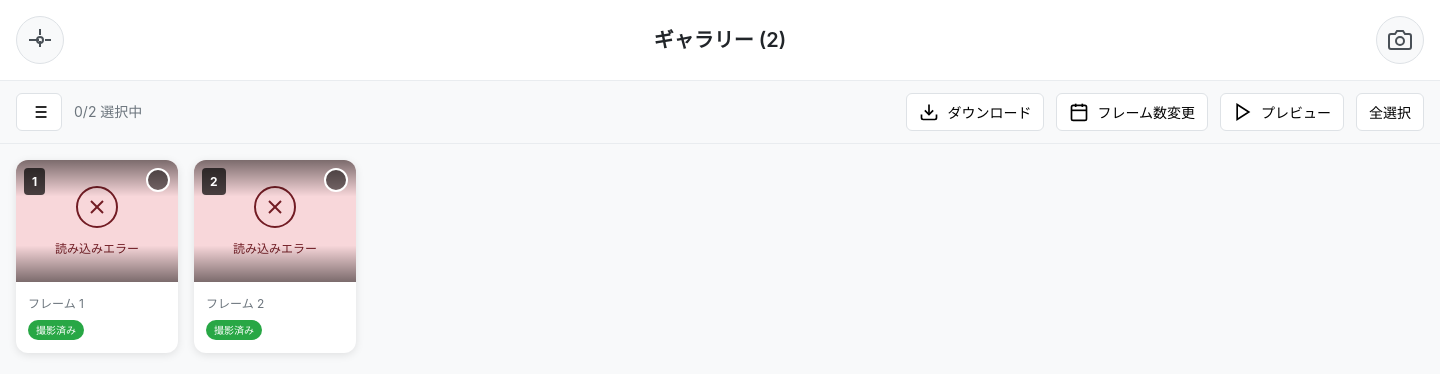
Scenario: GalleryView › should deselect frames when clicked again
The image size is (1440, 374).
Note: Select frame
Click the 1st element with class "frame-checkbox" at coordinates (158, 180), box [146, 168, 170, 192]
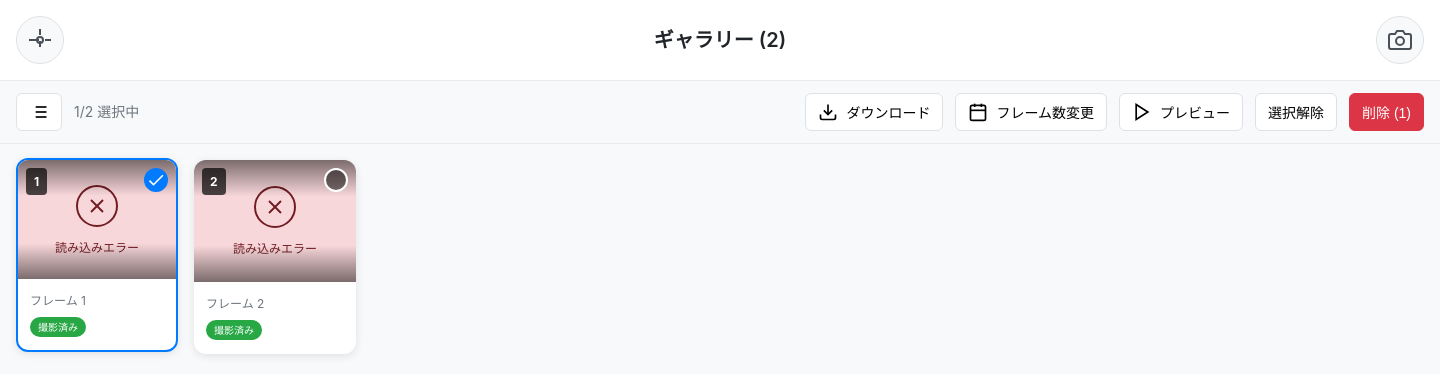
Now the element with class "frame-item" has class "selected", box [16, 158, 178, 352]
Note: Deselect frame
Click the 1st element with class "frame-checkbox" at coordinates (156, 180), box [144, 168, 168, 192]
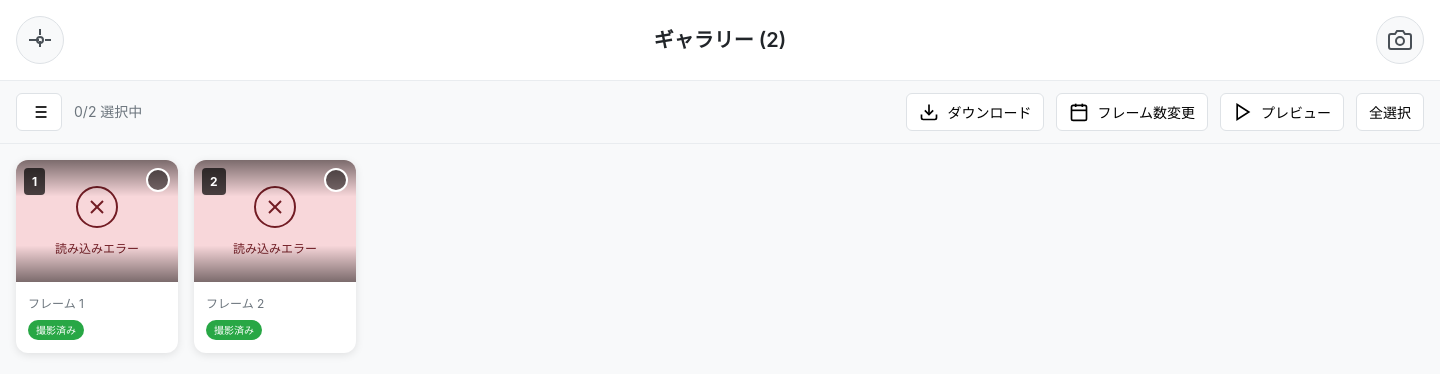
Now the text with class "frame-count" reads "0/2 選択中", box [74, 103, 142, 120]
